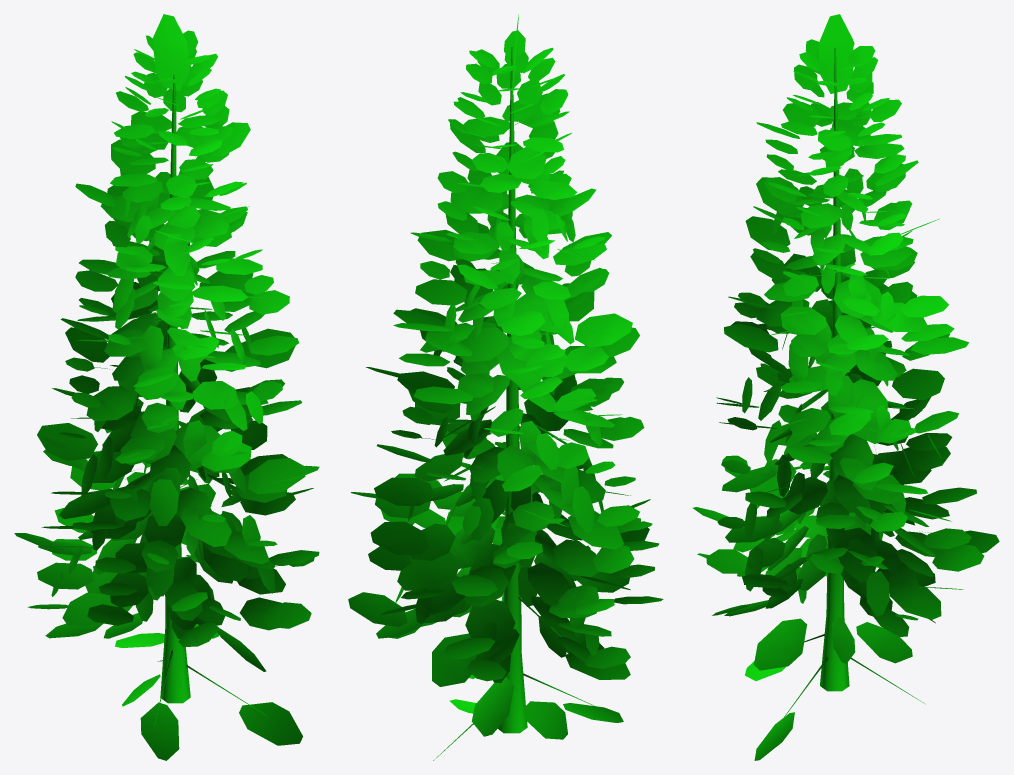
File: tree_spruce_a_lod1.glb
3 views of the same model, side by side, from view 1: azimuth 30°, elevation 25°; view 2: azimuth 150°, elevation 25°; view 3: azimuth 270°, elevation 25° (orthographic). The views are drawn at different scales.
Parts seen in each view (by area): view 1: tree_spruce_a_lod1.2, tree_spruce_a_lod1.1, tree_spruce_a_lod1.0; view 2: tree_spruce_a_lod1.2, tree_spruce_a_lod1.1, tree_spruce_a_lod1.0; view 3: tree_spruce_a_lod1.2, tree_spruce_a_lod1.1, tree_spruce_a_lod1.0.
Part boxes in pixels (x1,y1,x2,y2): tree_spruce_a_lod1.2: (14,14,319,647); tree_spruce_a_lod1.1: (45,613,302,760); tree_spruce_a_lod1.0: (154,74,267,725); tree_spruce_a_lod1.2: (348,14,663,682); tree_spruce_a_lod1.1: (432,632,630,739); tree_spruce_a_lod1.0: (433,47,595,760); tree_spruce_a_lod1.2: (693,14,999,636); tree_spruce_a_lod1.1: (745,567,935,760); tree_spruce_a_lod1.0: (776,48,925,727).
Bounding box in the file's own units: 7.06 × 18.59 × 7.37.
